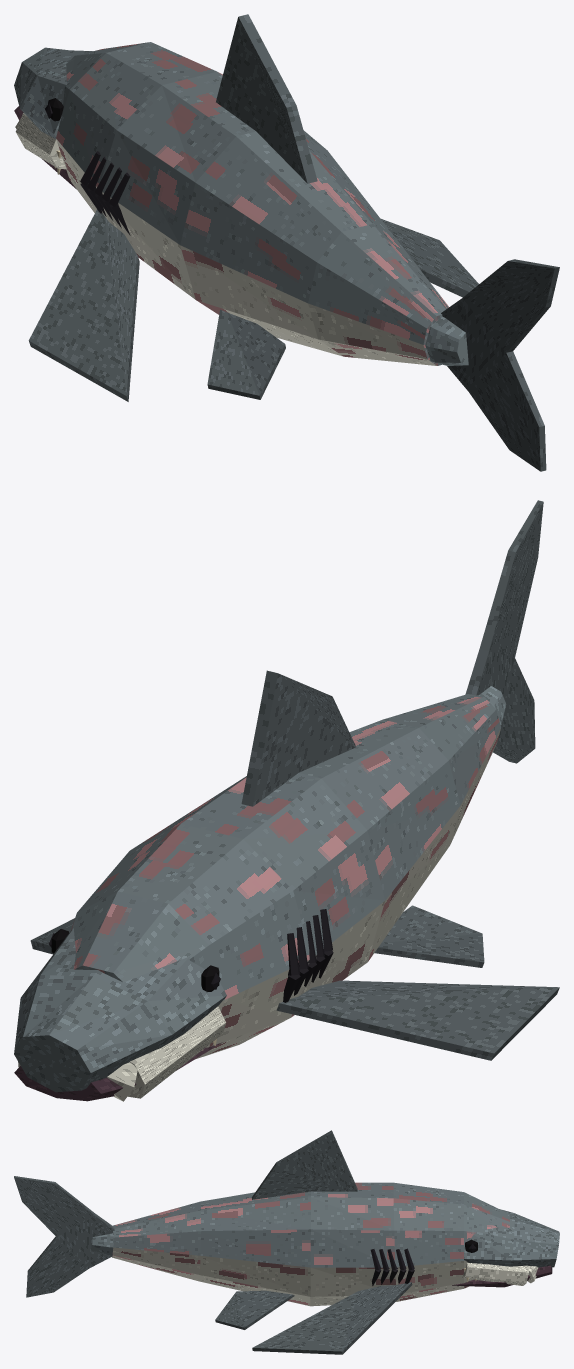
The model's file is mon_ocean_zhark.glb.
3 views of the same model, one above another, from view 1: azimuth 30°, elevation 25°; view 2: azimuth 150°, elevation 25°; view 3: azimuth 270°, elevation 25° (orthographic). The views are drawn at different scales.
Visible parts, largest first — view 1: closed_body; view 2: closed_body; view 3: closed_body.
Part boxes in pixels (x1,y1,x2,y2): closed_body: [14, 14, 559, 471]; closed_body: [14, 500, 559, 1101]; closed_body: [14, 1130, 559, 1354].
Size of the model in its own units: 1.5 by 1.02 by 3.
Materials: 1 (1 with a texture image).
